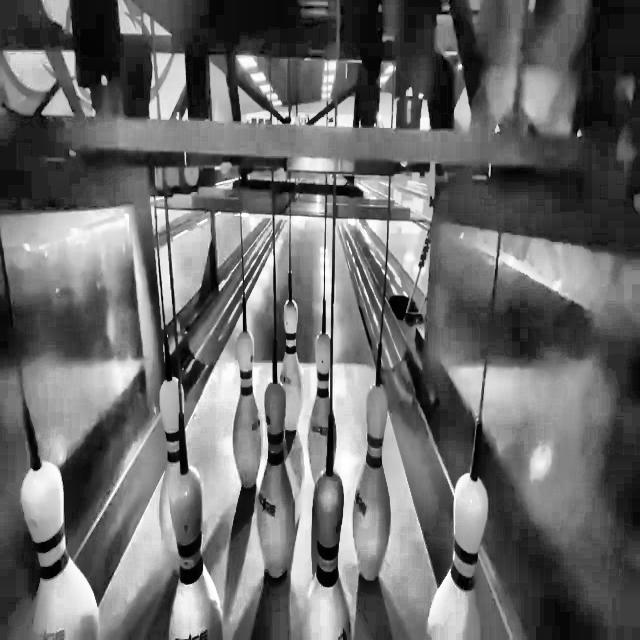bowling-pins: (20, 462, 97, 640), (428, 432, 489, 640), (168, 468, 222, 640), (304, 472, 352, 640), (257, 382, 296, 578), (353, 385, 391, 581), (233, 327, 262, 488), (159, 372, 180, 574), (280, 283, 302, 445), (308, 331, 331, 481)
